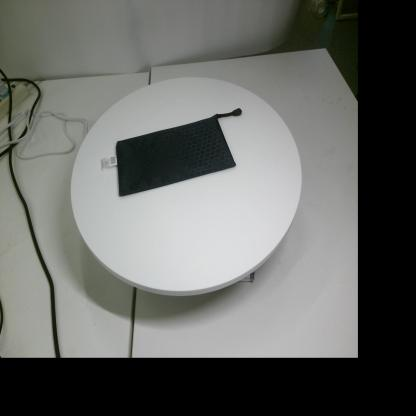Stationery: (101, 108, 242, 197)
